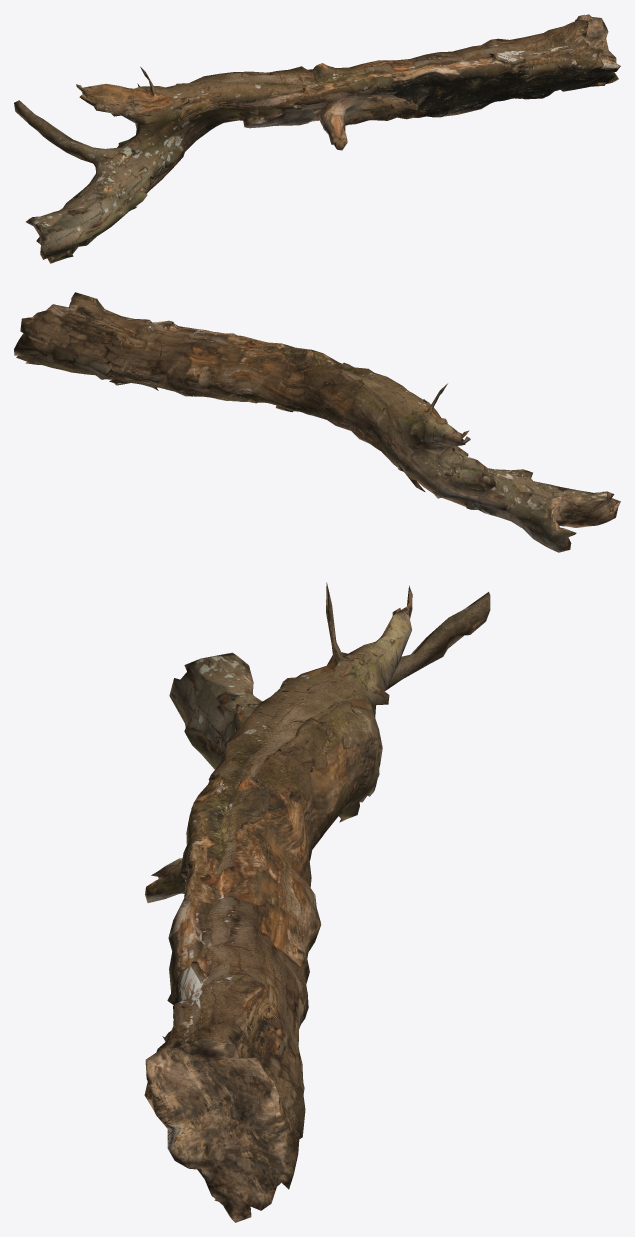
Rendered from fallen_trunk.glb.
3 views of the same model, one above another, from view 1: azimuth 30°, elevation 25°; view 2: azimuth 150°, elevation 25°; view 3: azimuth 270°, elevation 25° (orthographic). The views are drawn at different scales.
Parts seen in each view (by area): view 1: fallen_trunk; view 2: fallen_trunk; view 3: fallen_trunk.
Boxes of the visible parts, x1,y1,x2,y2 form: fallen_trunk: (14,14,620,263); fallen_trunk: (14,292,620,552); fallen_trunk: (144,582,490,1222).
Size of the model in its own units: 4.05 by 1.03 by 1.04.
Materials: 1 (1 with a texture image).
